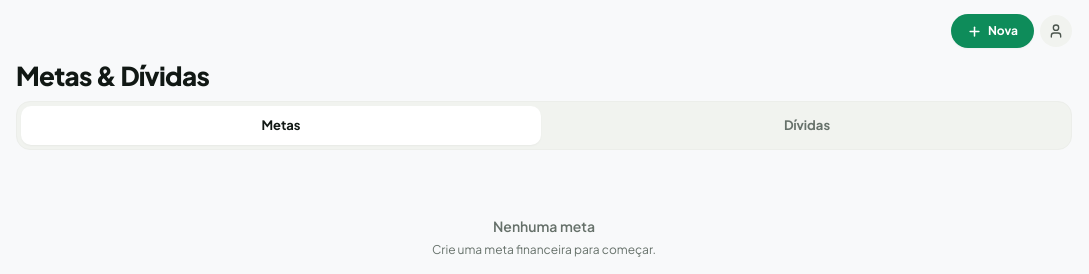
GoalsPage › debts tab — no debts › shows empty state when debts is empty
Click the button "Dívidas": coordinates (807, 125) x1=547 y1=106 x2=1067 y2=145
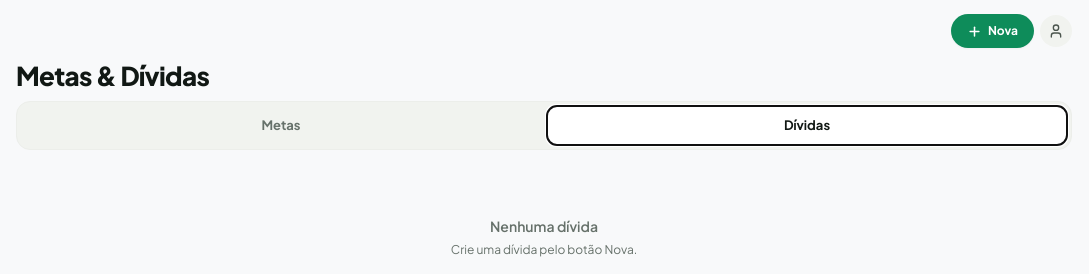
Check: the text "Nenhuma dívida" is shown, box x1=490 y1=217 x2=598 y2=235
